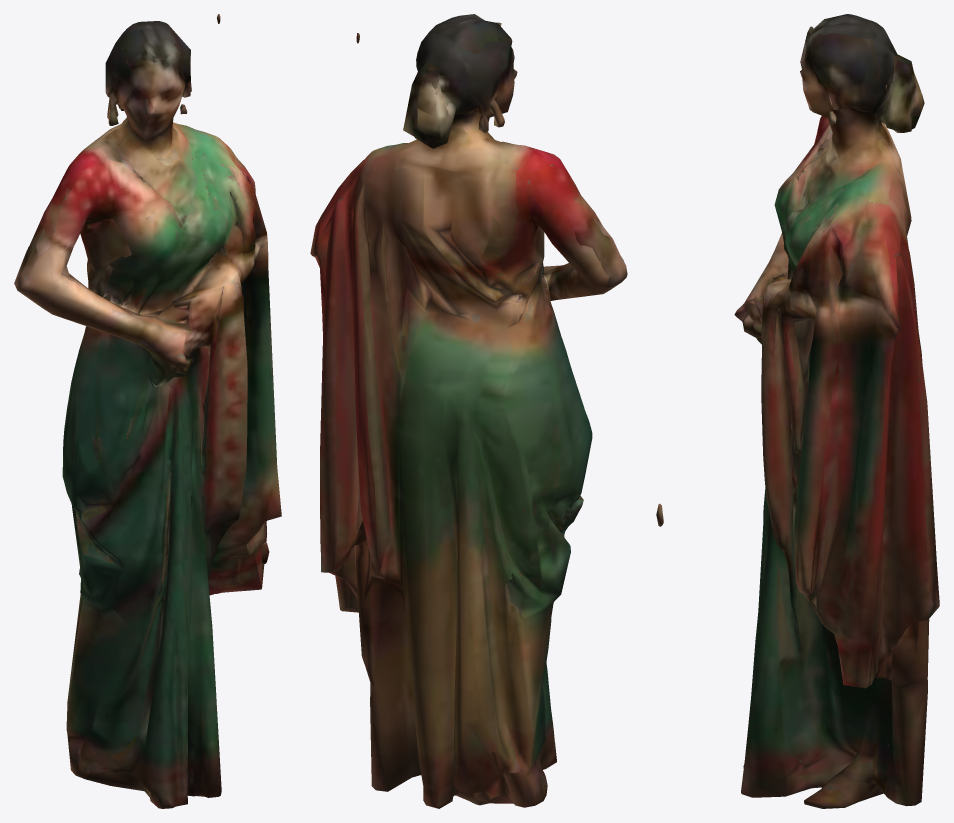
File: stand-3.glb
3 renders of one model, left to right at view 1: azimuth 30°, elevation 25°; view 2: azimuth 150°, elevation 25°; view 3: azimuth 270°, elevation 25°, orthographic. The views are drawn at different scales.
Visible parts, largest first — view 1: Mesh1_Mesh1.124_Material.001_0; view 2: Mesh1_Mesh1.124_Material.001_0; view 3: Mesh1_Mesh1.124_Material.001_0.
Boxes of the visible parts, box(x1,y1,x2,y2) form: Mesh1_Mesh1.124_Material.001_0: box(14, 14, 281, 808); Mesh1_Mesh1.124_Material.001_0: box(310, 14, 627, 808); Mesh1_Mesh1.124_Material.001_0: box(656, 14, 939, 808).
Size of the model in its own units: 0.7598 by 2 by 0.6644.
Materials: 1 (1 with a texture image).
